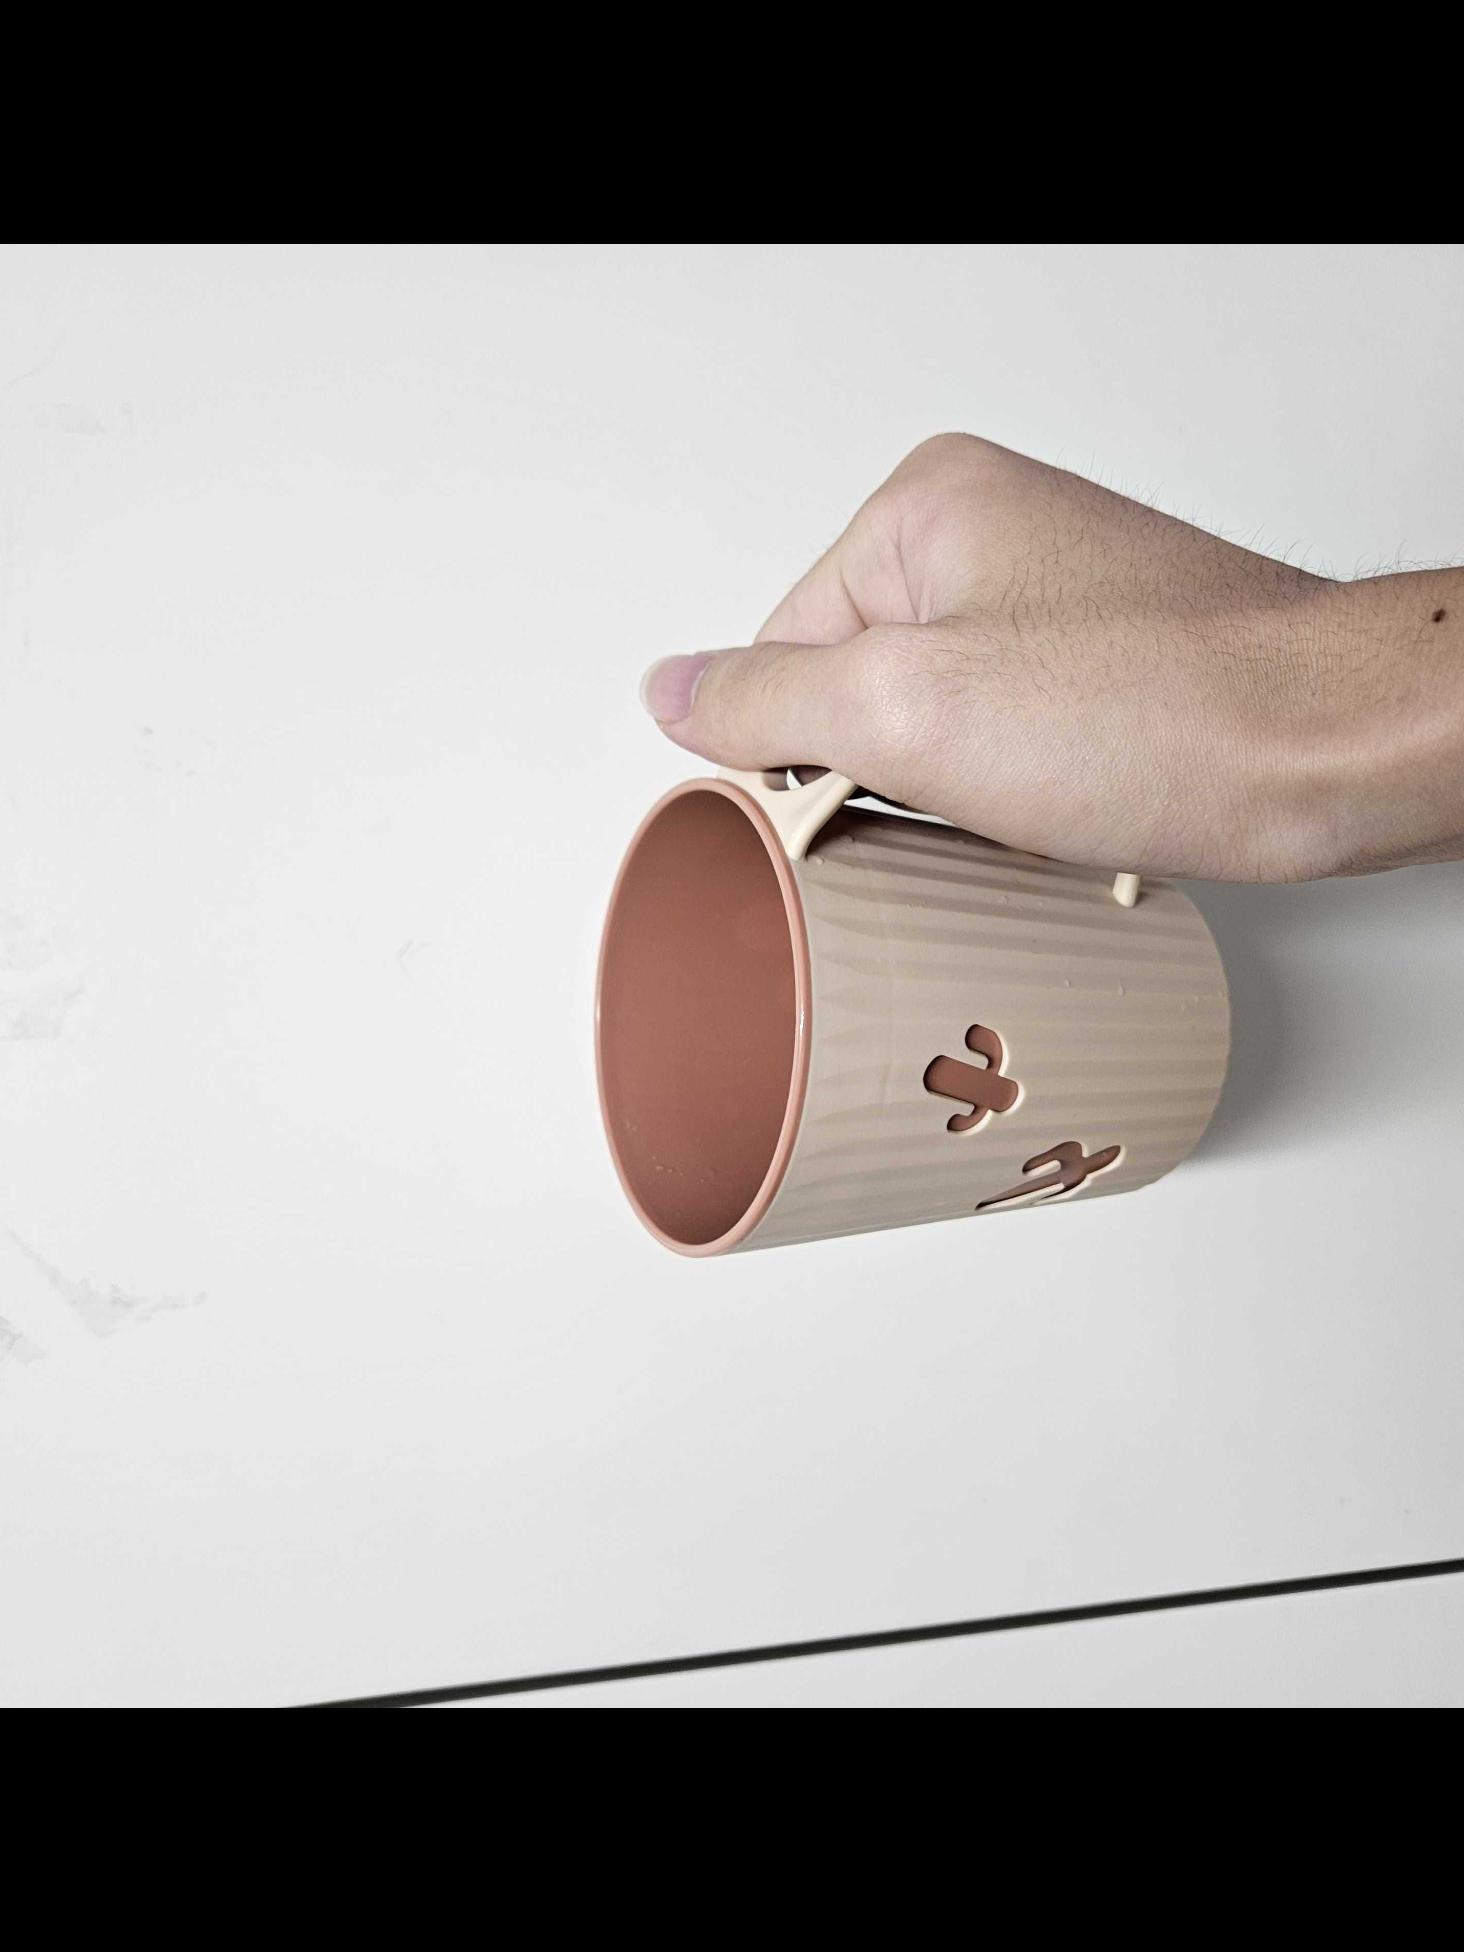cup: (580, 427, 1464, 1256)
